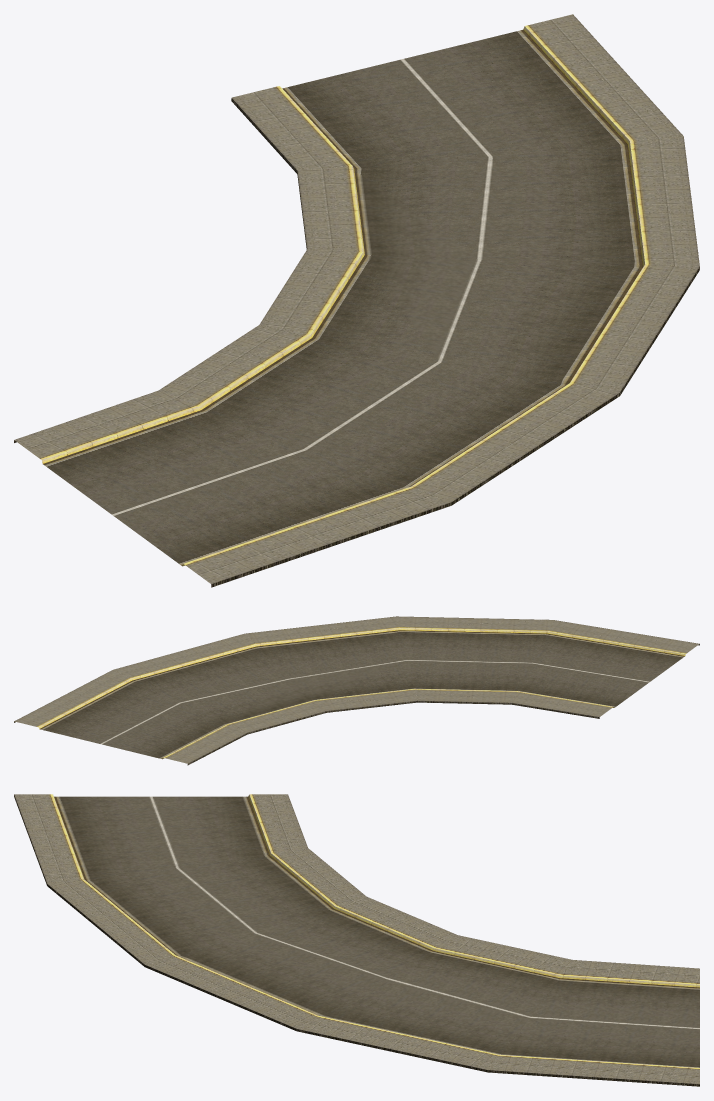
Rendered from Road3_Turn_Large_F.fbx.
3 views of the same model, one above another, from view 1: azimuth 30°, elevation 25°; view 2: azimuth 150°, elevation 25°; view 3: azimuth 270°, elevation 25° (orthographic). The views are drawn at different scales.
Visible parts, largest first — view 1: Road_Turn_Large_F; view 2: Road_Turn_Large_F; view 3: Road_Turn_Large_F.
Boxes of the visible parts, x1=… form: Road_Turn_Large_F: x1=14, y1=14, x2=699, y2=587; Road_Turn_Large_F: x1=14, y1=616, x2=699, y2=765; Road_Turn_Large_F: x1=14, y1=794, x2=699, y2=1086.
Bounding box in the file's own units: 2223 × 8.5 × 2222.
